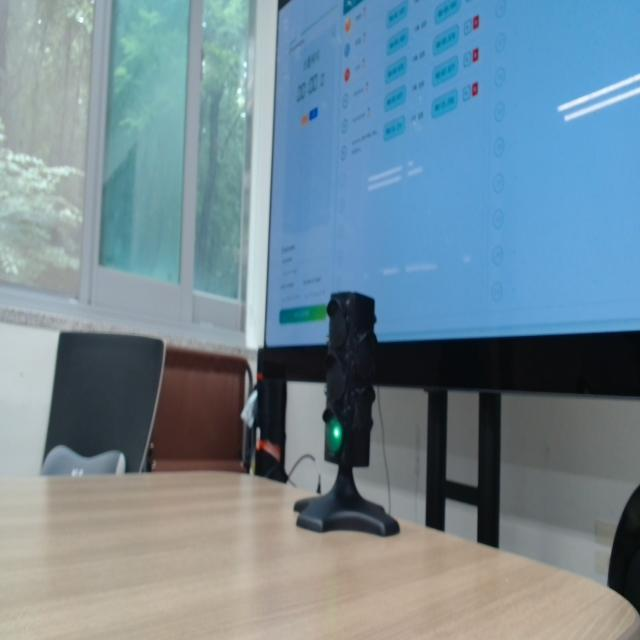green_light: (326, 417, 343, 455)
